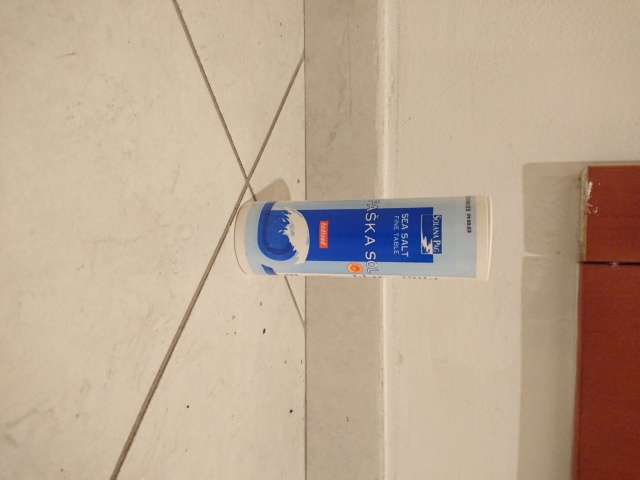Solana Pag Fine Sea Salt 250g: (231, 192, 496, 283)
